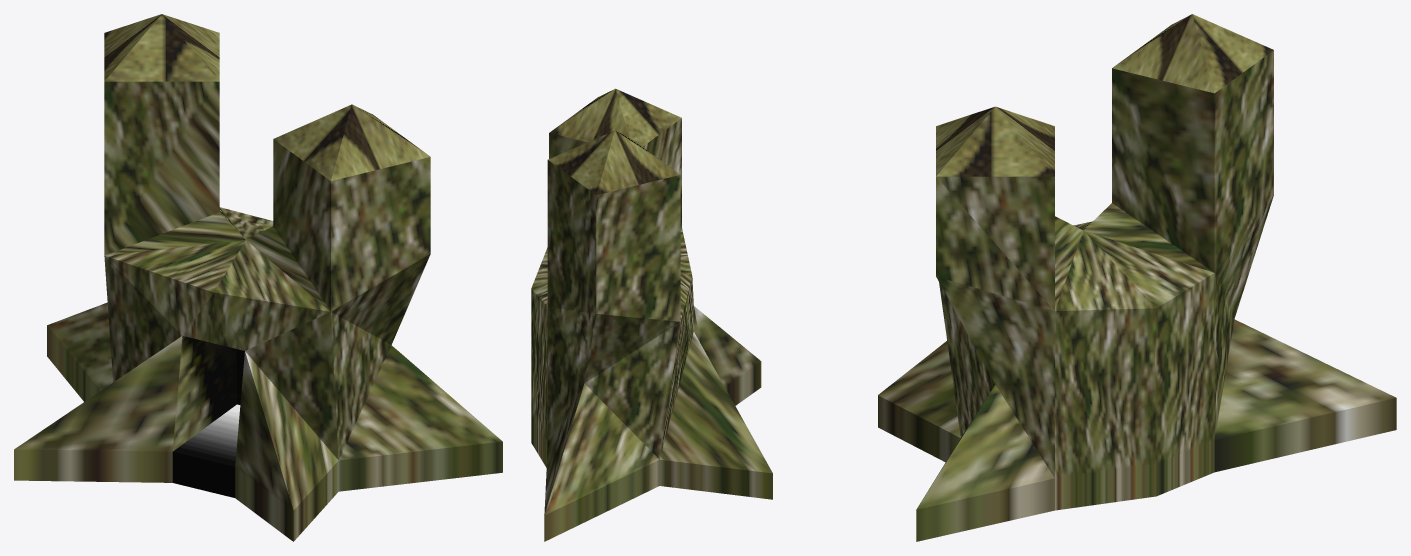
Rendered from kokiri4.glb.
3 renders of one model, left to right at view 1: azimuth 30°, elevation 25°; view 2: azimuth 150°, elevation 25°; view 3: azimuth 270°, elevation 25°, orthographic. The views are drawn at different scales.
Visible parts, largest first — view 1: Kokiri Forest.003; view 2: Kokiri Forest.003; view 3: Kokiri Forest.003.
Boxes of the visible parts, x1,y1,x2,y2 form: Kokiri Forest.003: (14, 14, 502, 541); Kokiri Forest.003: (531, 88, 772, 541); Kokiri Forest.003: (878, 14, 1396, 541).
Size of the model in its own units: 6.74 by 7.07 by 8.98.
1 material, 1 textured.
